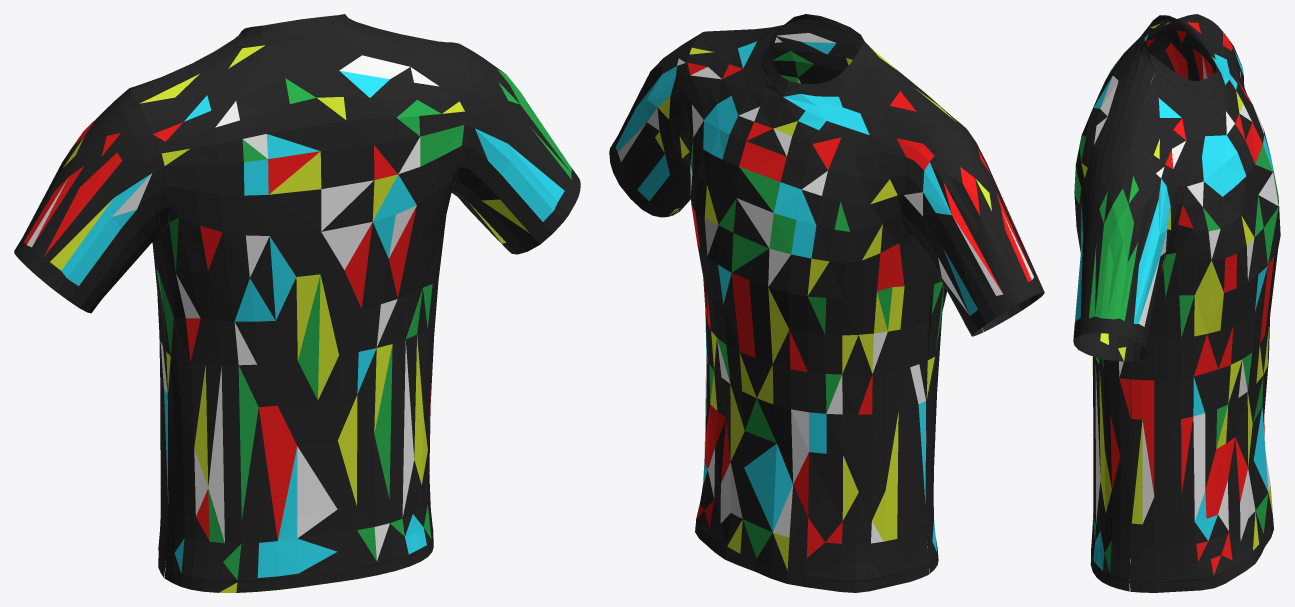
The model's file is T-shirt.gltf.
3 views of the same model, side by side, from view 1: azimuth 30°, elevation 25°; view 2: azimuth 150°, elevation 25°; view 3: azimuth 270°, elevation 25° (orthographic). The views are drawn at different scales.
Parts seen in each view (by area): view 1: node-0; view 2: node-0; view 3: node-0.
Part boxes in pixels (bbox=[...]): node-0: bbox=[14, 14, 580, 592]; node-0: bbox=[609, 14, 1044, 592]; node-0: bbox=[1073, 14, 1280, 592].
Bounding box in the file's own units: 341449 × 352917 × 130433.
